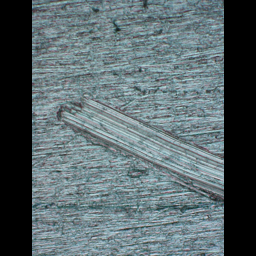d: (53, 94, 223, 206)
